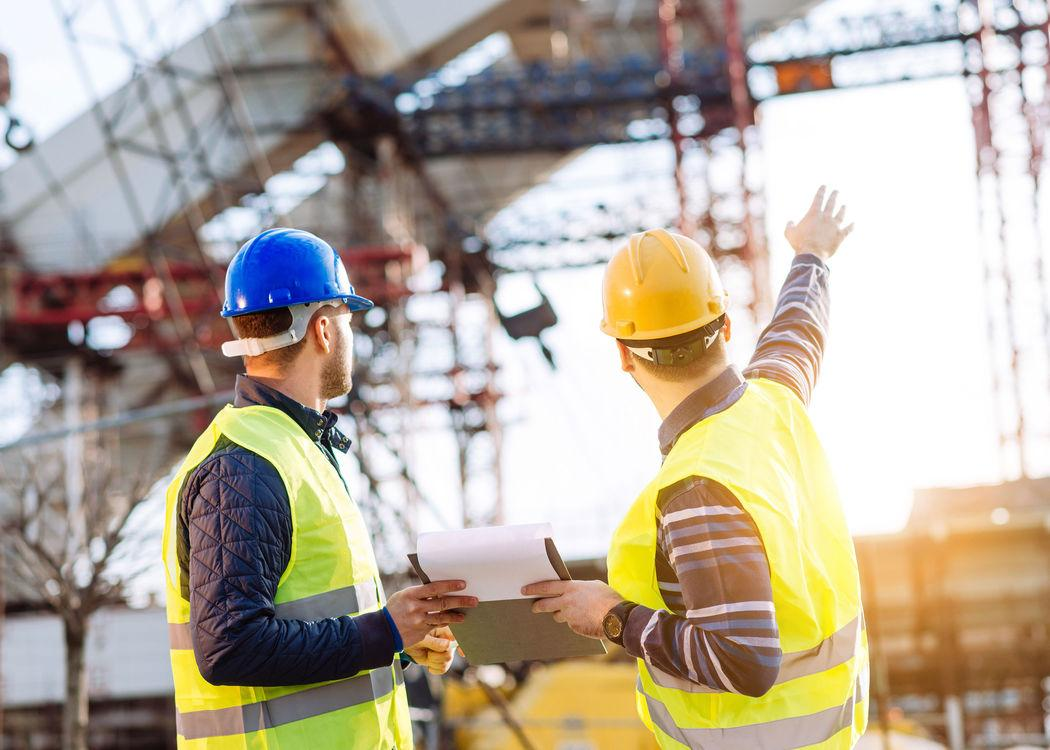helmet: (221, 226, 380, 326), (600, 230, 730, 343)
